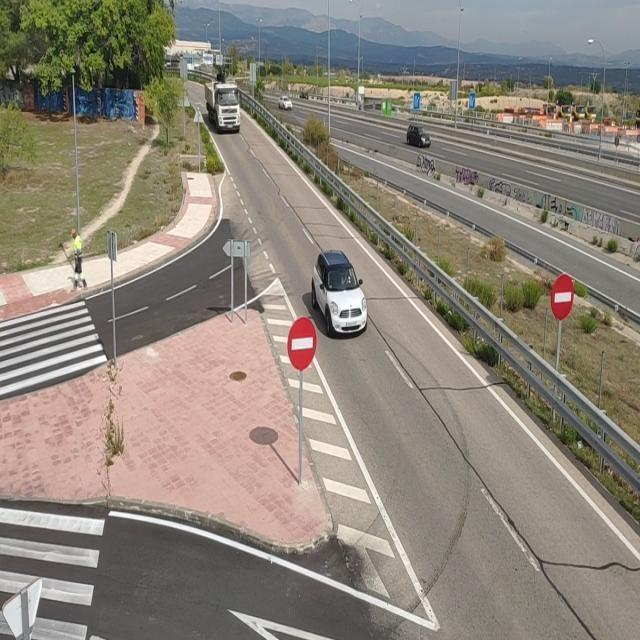Car: (310, 250, 368, 336), (406, 125, 431, 148), (278, 96, 293, 110)
Truck: (203, 82, 244, 133)
